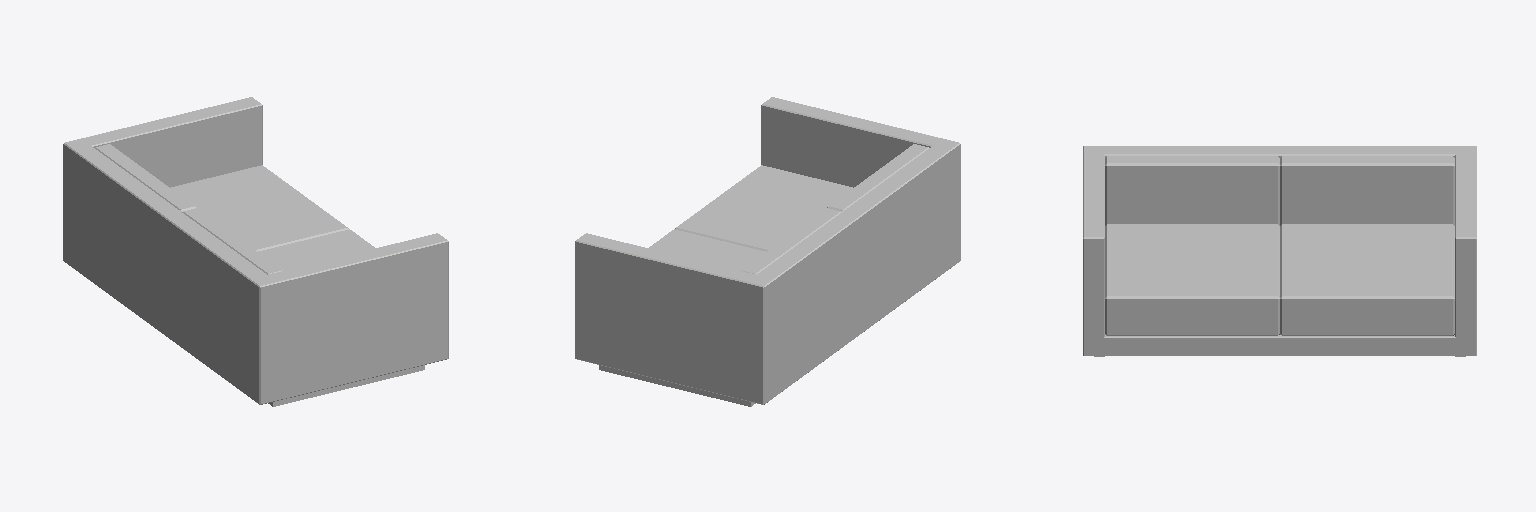
Rendered from sofa-double.obj.
3 renders of one model, left to right at view 1: azimuth 30°, elevation 25°; view 2: azimuth 150°, elevation 25°; view 3: azimuth 270°, elevation 25°, orthographic.
Parts seen in each view (by area): view 1: sofa_Cube; view 2: sofa_Cube; view 3: sofa_Cube.
Boxes of the visible parts, box(x1,y1,x2,y2) form: sofa_Cube: box(63, 97, 448, 406); sofa_Cube: box(575, 97, 960, 406); sofa_Cube: box(1083, 146, 1476, 356).
Bounding box in the file's own units: 1 × 0.65 × 1.8.